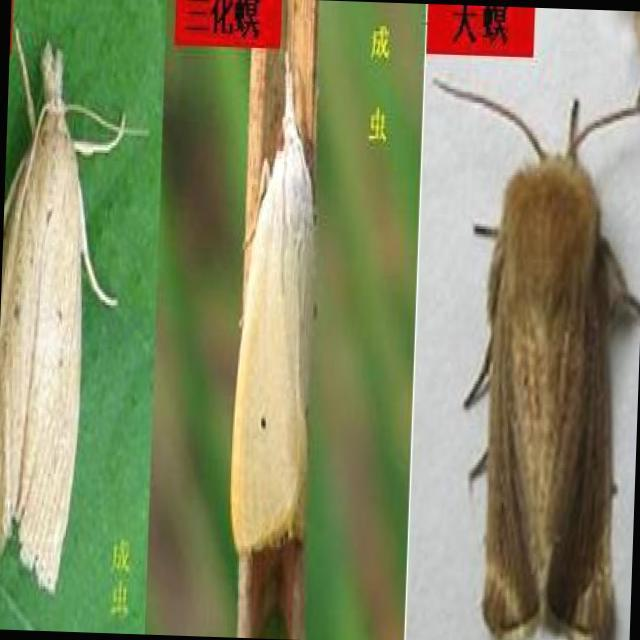stem borer: (435, 81, 639, 639), (0, 45, 115, 588), (230, 50, 314, 639)
